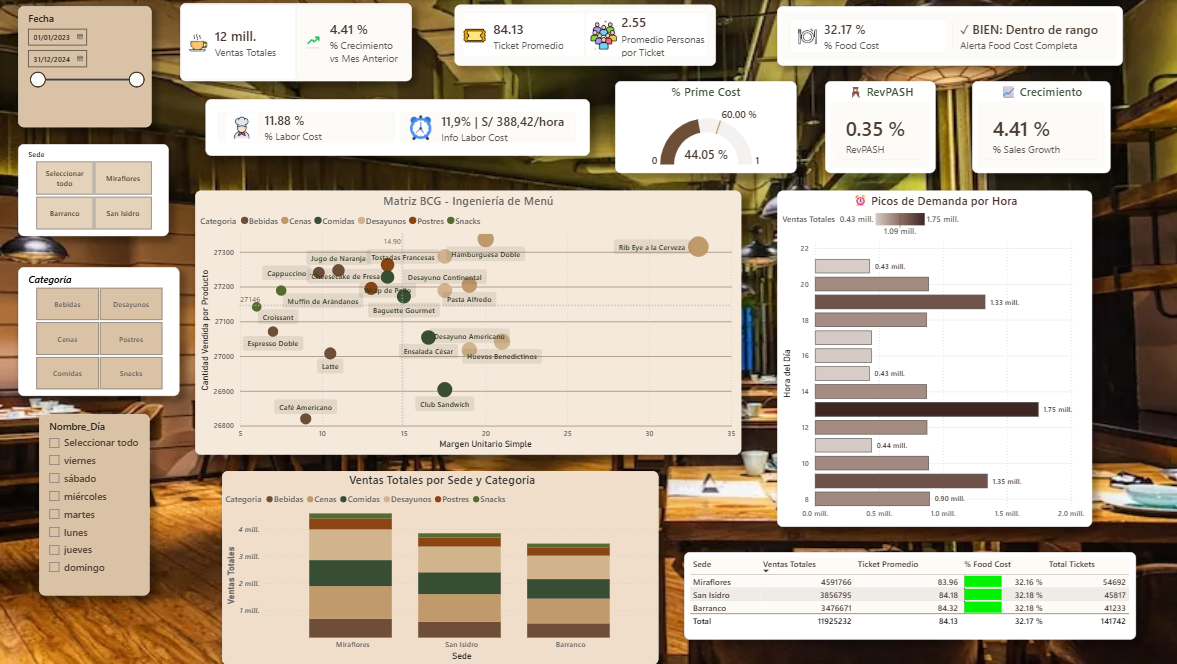

The dashboard page shown, as its layout file describes it:
{"tool":"powerbi","page":{"name":"Control de Gestión","canvas":[1920,1080],"ordinal":0},"visuals":[{"type":"card","fields":{"Values":["_Medidas.% Food Cost"]},"box":[873.3,11.7,160,75],"z":0},{"type":"scatterChart","title":"Matriz BCG - Ingeniería de Menú","fields":{"Category":["Dim_Productos.Nombre_Producto"],"Series":["Dim_Productos.Categoria"],"Size":["_Medidas.Ventas Totales"],"X":["_Medidas.Margen Unitario Simple"],"Y":["_Medidas.Cantidad Vendida por Producto"]},"box":[318.3,310,888.3,430],"z":1000},{"type":"clusteredBarChart","title":"⏰ Picos de Demanda por Hora","fields":{"Category":["Fact_Tickets.Hora_Agrupada"],"Y":["_Medidas.Ventas Totales"]},"box":[1265,310,512.5,547.5],"z":2000},{"type":"columnChart","fields":{"Category":["Fact_Tickets.Sede"],"Series":["Dim_Productos.Categoria"],"Y":["_Medidas.Ventas Totales"]},"box":[360,765,710,315],"z":3000},{"type":"tableEx","fields":{"Values":["Fact_Tickets.Sede","_Medidas.Ventas Totales","_Medidas.Ticket Promedio","_Medidas.% Food Cost","_Medidas.Total Tickets"]},"box":[1112.5,897.5,735,142.5],"z":4000},{"type":"slicer","fields":{"Values":["Fact_Tickets.Sede"]},"box":[30,235,245,150],"z":5000},{"type":"slicer","fields":{"Values":["Dim_Productos.Categoria"]},"box":[30,435,262.5,210],"z":6000},{"type":"slicer","fields":{"Values":["Dim_Calendario.Nombre_Día"]},"box":[63.3,673.3,180,295],"z":7000},{"type":"slicer","fields":{"Values":["Fact_Tickets.Fecha"]},"box":[30,10,217.5,197.5],"z":8000},{"type":"cardVisual","fields":{"Data":["_Medidas.Ventas Totales","_Medidas.% Crecimiento vs Mes Anterior"]},"box":[292.5,5,377.5,127.5],"z":9000},{"type":"cardVisual","fields":{"Data":["_Medidas.Ticket Promedio","_Medidas.Promedio Personas por Ticket"]},"box":[740,7.5,425,100],"z":10000},{"type":"cardVisual","fields":{"Data":["_Medidas.% Labor Cost","_Medidas.Info Labor Cost"]},"box":[335,160,625,92.5],"z":11000},{"type":"cardVisual","fields":{"Data":["_Medidas.% Food Cost","_Medidas.Alerta Food Cost Completa"]},"box":[1265,10,562.5,97.5],"z":12000},{"type":"gauge","title":"% Prime Cost","fields":{"MaxValue":["_Medidas.Maximo Prime Cost"],"MinValue":["_Medidas.Minimo Prime Cost"],"TargetValue":["_Medidas.Objetivo Prime Cost"],"Y":["_Medidas.% Prime Cost"]},"box":[1000,132.5,295,150],"z":13000},{"type":"cardVisual","title":"📈 Crecimiento","fields":{"Data":["_Medidas.% Sales Growth"]},"box":[1580,132.5,225,150],"z":14000},{"type":"cardVisual","title":"🪑 RevPASH","fields":{"Data":["_Medidas.RevPASH"]},"box":[1342.5,132.5,180,150],"z":15000}]}

Visuals, with their boxes in screenshot pixels (x1, y1, x2, y2), scaled from the page's 1920x1080 canvas onto the 1177x664 screenshot:
card - _Medidas.% Food Cost: {"left": 535, "top": 7, "right": 633, "bottom": 53}
"Matriz BCG - Ingeniería de Menú" scatterChart: {"left": 195, "top": 191, "right": 740, "bottom": 455}
"⏰ Picos de Demanda por Hora" clusteredBarChart: {"left": 775, "top": 191, "right": 1090, "bottom": 527}
columnChart - Fact_Tickets.Sede x Dim_Productos.Categoria: {"left": 221, "top": 470, "right": 656, "bottom": 663}
tableEx - Fact_Tickets.Sede x _Medidas.Ventas Totales: {"left": 682, "top": 552, "right": 1133, "bottom": 639}
slicer - Fact_Tickets.Sede: {"left": 18, "top": 144, "right": 169, "bottom": 237}
slicer - Dim_Productos.Categoria: {"left": 18, "top": 267, "right": 179, "bottom": 397}
slicer - Dim_Calendario.Nombre_Día: {"left": 39, "top": 414, "right": 149, "bottom": 595}
slicer - Fact_Tickets.Fecha: {"left": 18, "top": 6, "right": 152, "bottom": 128}
cardVisual - _Medidas.Ventas Totales x _Medidas.% Crecimiento vs Mes Anterior: {"left": 179, "top": 3, "right": 411, "bottom": 81}
cardVisual - _Medidas.Ticket Promedio x _Medidas.Promedio Personas por Ticket: {"left": 454, "top": 5, "right": 714, "bottom": 66}
cardVisual - _Medidas.% Labor Cost x _Medidas.Info Labor Cost: {"left": 205, "top": 98, "right": 588, "bottom": 155}
cardVisual - _Medidas.% Food Cost x _Medidas.Alerta Food Cost Completa: {"left": 775, "top": 6, "right": 1120, "bottom": 66}
"% Prime Cost" gauge: {"left": 613, "top": 81, "right": 794, "bottom": 174}
"📈 Crecimiento" cardVisual: {"left": 969, "top": 81, "right": 1107, "bottom": 174}
"🪑 RevPASH" cardVisual: {"left": 823, "top": 81, "right": 933, "bottom": 174}
